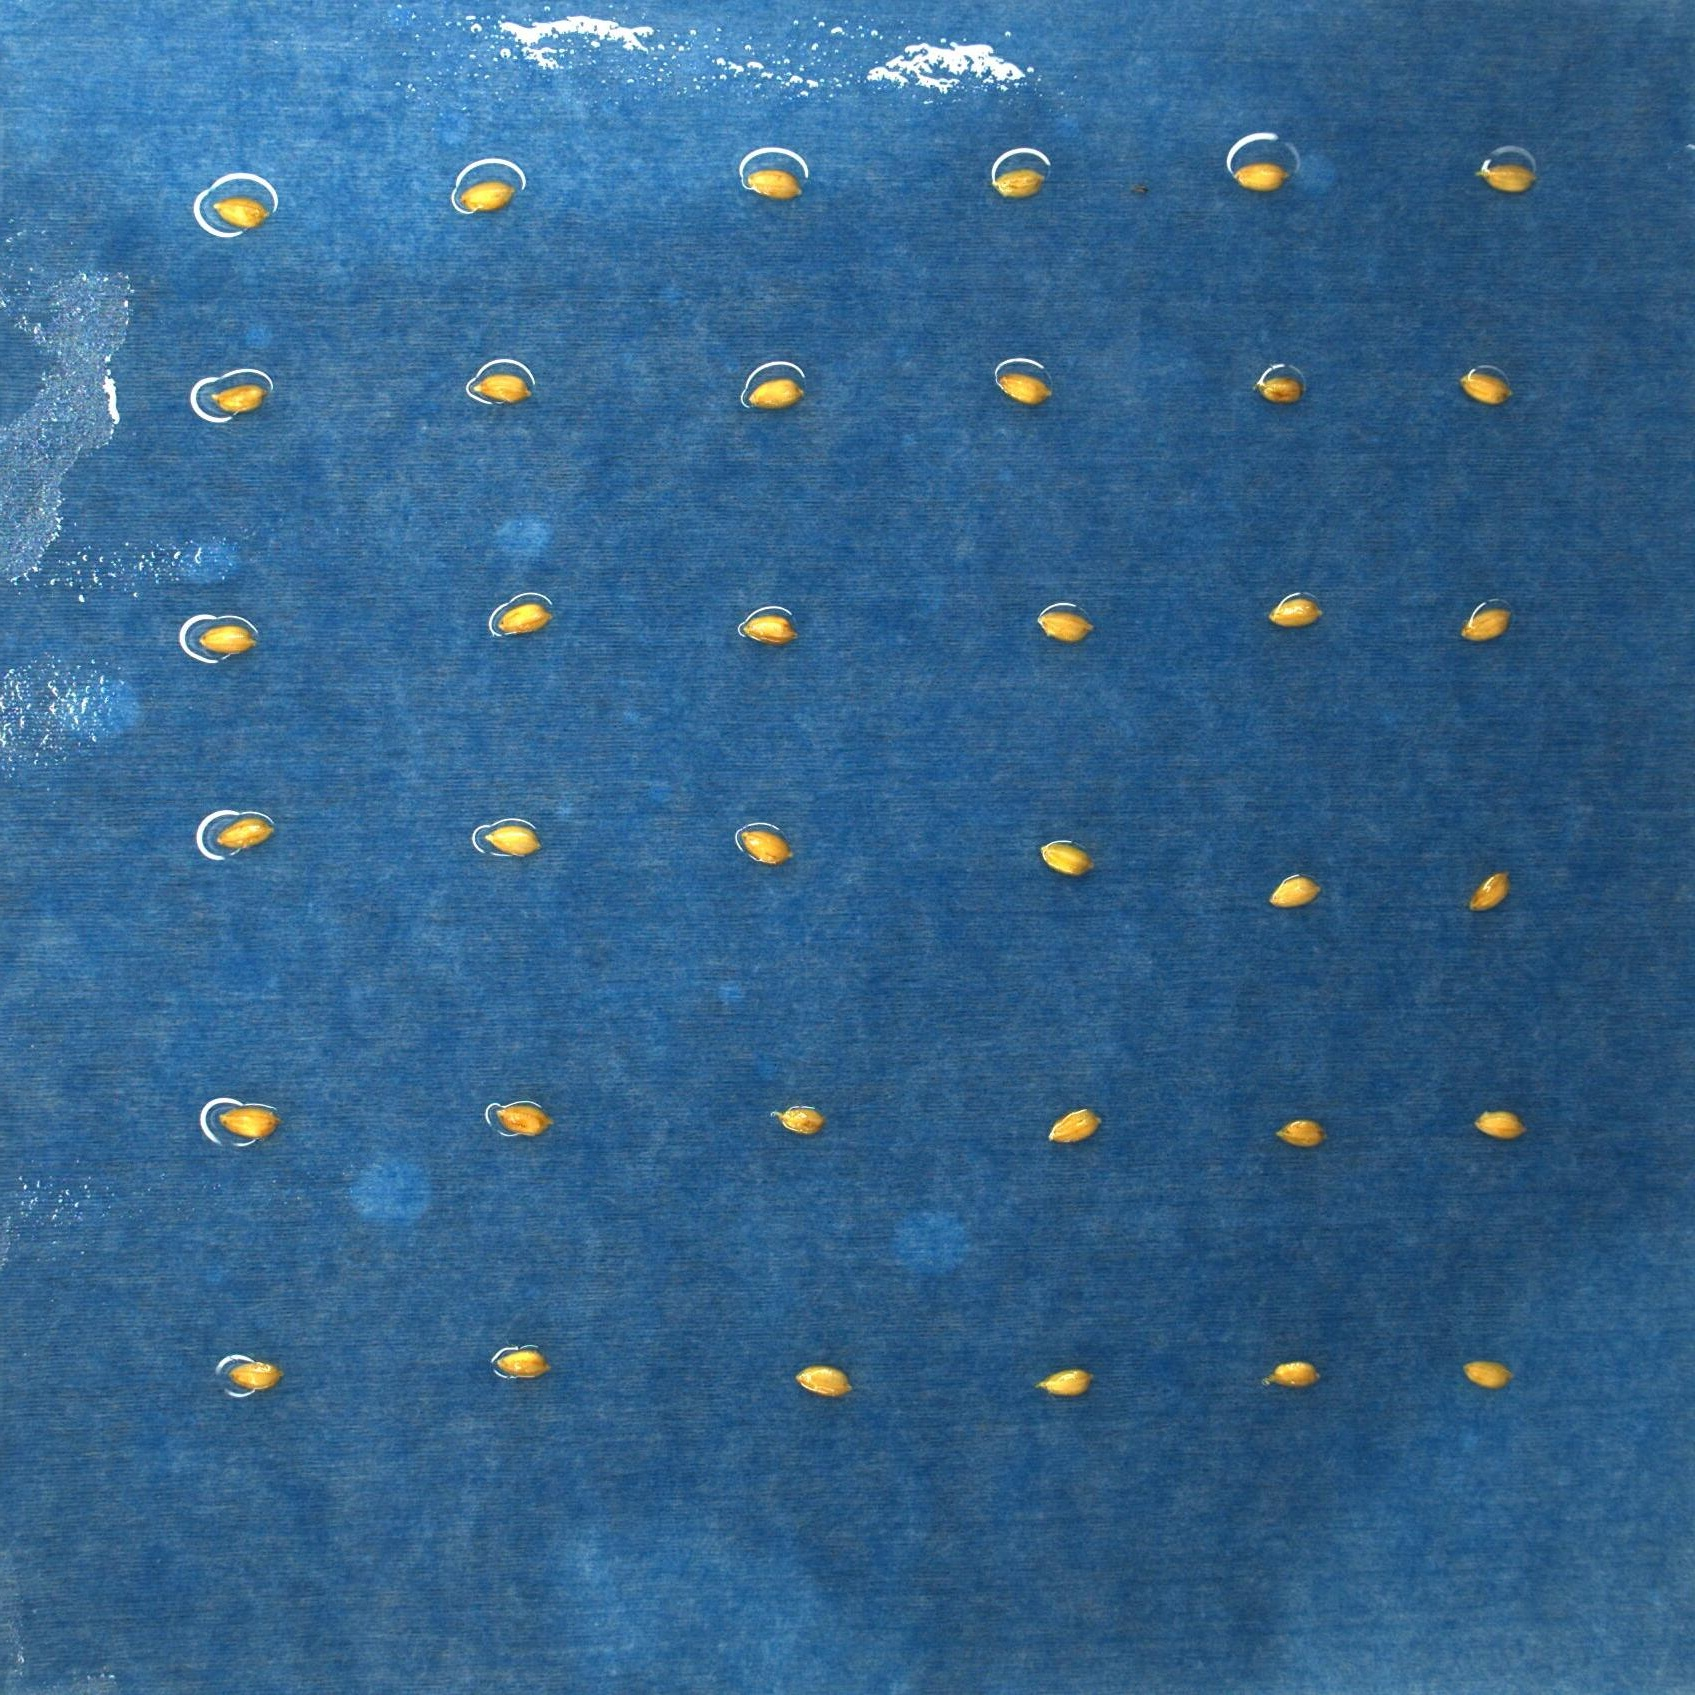not sprout: (214, 1104, 276, 1141), (1038, 602, 1093, 644), (995, 369, 1057, 405), (199, 619, 258, 657), (1459, 604, 1513, 644), (1459, 366, 1515, 405), (459, 180, 520, 216), (793, 1363, 854, 1399), (740, 826, 792, 868), (768, 1105, 830, 1139), (1267, 594, 1326, 630), (1478, 163, 1538, 197), (213, 192, 270, 228), (495, 1104, 553, 1139), (1465, 869, 1510, 914), (470, 371, 532, 404), (1270, 872, 1324, 910), (1038, 841, 1094, 877), (1048, 1107, 1104, 1142), (748, 376, 806, 410), (739, 612, 796, 646), (214, 816, 272, 851), (484, 824, 542, 858), (210, 383, 270, 414), (495, 1347, 553, 1380), (230, 1361, 284, 1395), (495, 601, 551, 633), (1471, 1107, 1527, 1139), (993, 166, 1046, 200), (745, 171, 806, 200), (1263, 1360, 1321, 1391), (1231, 165, 1293, 192), (1035, 1371, 1093, 1400), (1253, 374, 1304, 405), (1273, 1119, 1329, 1147), (1464, 1360, 1513, 1391)
